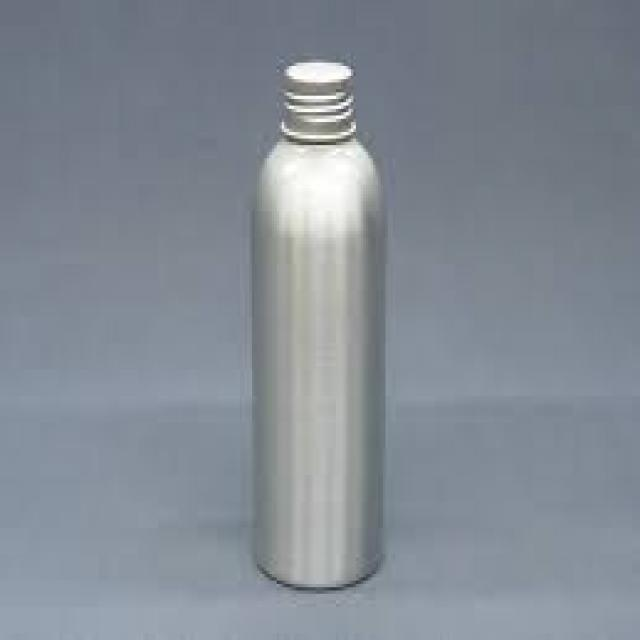recyclable: (252, 59, 383, 595)
